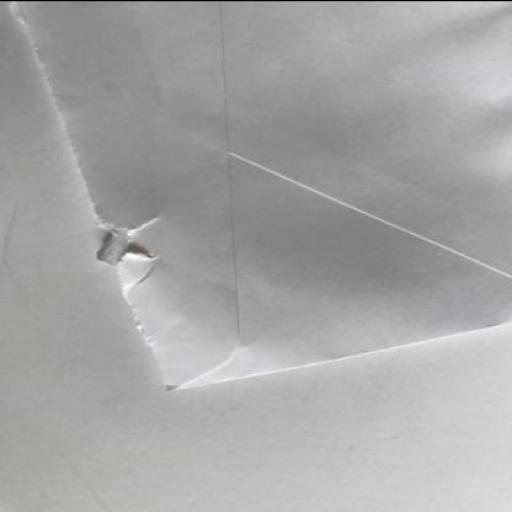paper: (1, 2, 511, 392)
